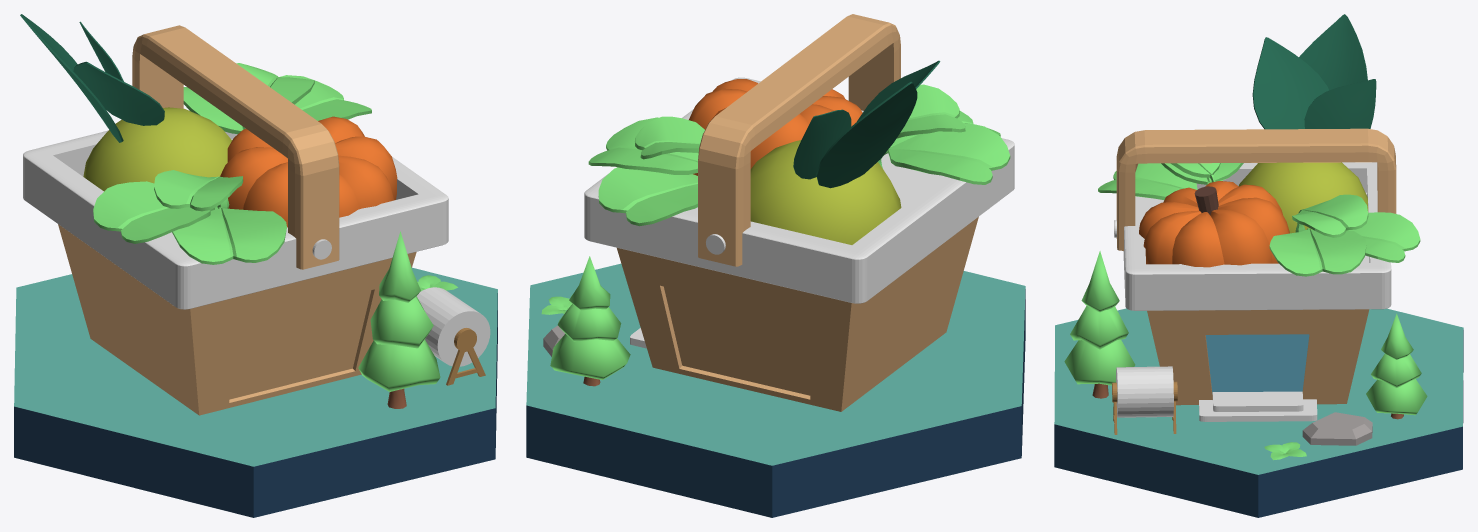
Rendered from Macro - market lv3 wm2.fbx.
3 views of the same model, side by side, from view 1: azimuth 30°, elevation 25°; view 2: azimuth 150°, elevation 25°; view 3: azimuth 270°, elevation 25° (orthographic). The views are drawn at different scales.
Parts seen in each view (by area): view 1: Cylinder.154, Plane.069, Cube.103, Roundcube.004, Sphere.045, Sphere.044, Tree_Spruce_tiny_01.003, Plane.008, Plane.007, Cylinder.020, Plane.078, Plane.010 (+5 smaller); view 2: Cylinder.154, Plane.069, Cube.103, Roundcube.004, Sphere.044, Tree_Spruce_tiny_01.004, Plane.007, Plane.079, Plane.009, Sphere.045, Plane.012, Plane.016 (+3 smaller); view 3: Cylinder.154, Cube.103, Plane.069, Roundcube.004, Sphere.045, Plane.005, Tree_Spruce_tiny_01.003, Plane.078, Sphere.044, Plane.012, Tree_Spruce_tiny_01.004, Plane.079 (+12 smaller).
Boxes of the visible parts, x1,y1,x2,y2 form: Cylinder.154: (14, 267, 497, 517); Plane.069: (58, 224, 416, 415); Cube.103: (23, 110, 448, 309); Roundcube.004: (132, 25, 339, 269); Sphere.045: (220, 116, 397, 227); Sphere.044: (83, 107, 231, 191); Tree_Spruce_tiny_01.003: (358, 231, 440, 408); Plane.008: (172, 207, 286, 264); Plane.007: (93, 181, 217, 243); Cylinder.020: (417, 287, 490, 366); Plane.078: (73, 61, 164, 125); Plane.010: (154, 170, 243, 211); Cylinder.154: (526, 263, 1025, 517); Plane.069: (617, 217, 978, 411); Cube.103: (584, 77, 1014, 303); Roundcube.004: (698, 14, 900, 266); Sphere.044: (750, 140, 901, 244); Tree_Spruce_tiny_01.004: (550, 256, 630, 386); Plane.007: (878, 123, 1010, 184); Plane.079: (816, 81, 917, 188); Plane.009: (598, 167, 697, 226); Sphere.045: (689, 79, 862, 175); Plane.012: (588, 117, 698, 174); Plane.016: (635, 116, 704, 159); Cylinder.154: (1054, 308, 1463, 517); Cube.103: (1123, 162, 1391, 310); Plane.069: (1147, 309, 1369, 405); Roundcube.004: (1116, 128, 1396, 250); Sphere.045: (1139, 181, 1289, 267); Plane.005: (1205, 334, 1309, 393); Tree_Spruce_tiny_01.003: (1064, 251, 1135, 398); Plane.078: (1252, 37, 1328, 129); Sphere.044: (1238, 162, 1368, 233); Plane.012: (1269, 228, 1366, 276); Tree_Spruce_tiny_01.004: (1366, 313, 1427, 419); Plane.079: (1299, 14, 1367, 90).
Bounding box in the file's own units: 197 × 153 × 172.
